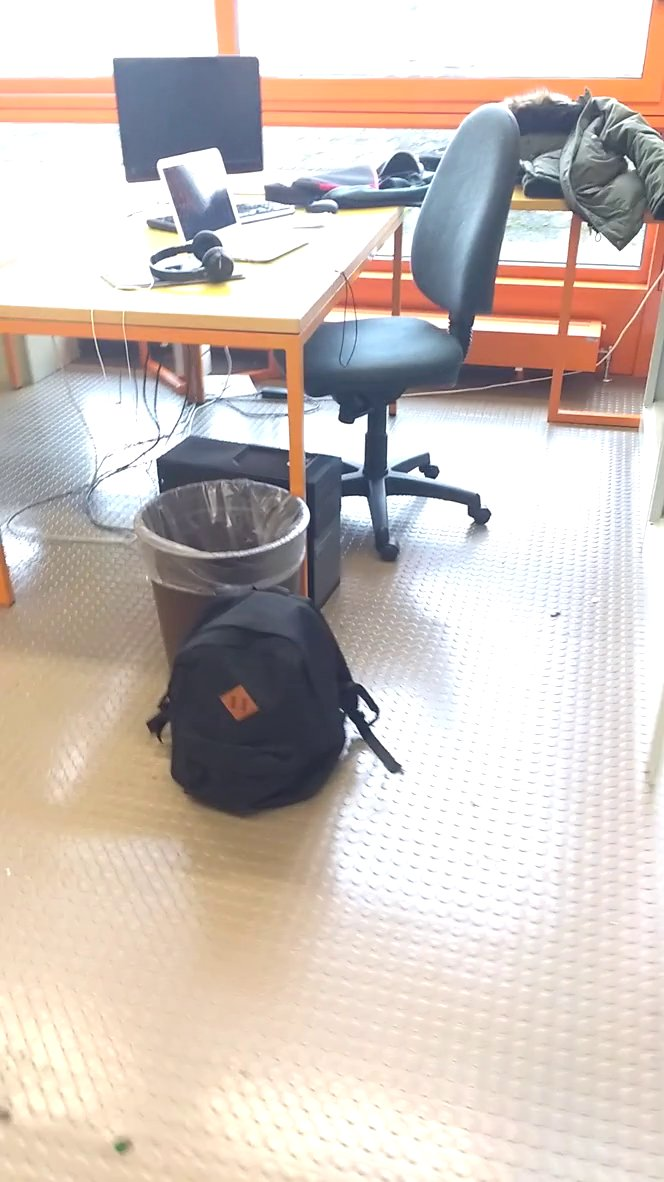bag: (141, 584, 407, 831)
bin: (103, 464, 326, 629)
chair: (304, 81, 527, 562)
laptop: (152, 141, 320, 272)
